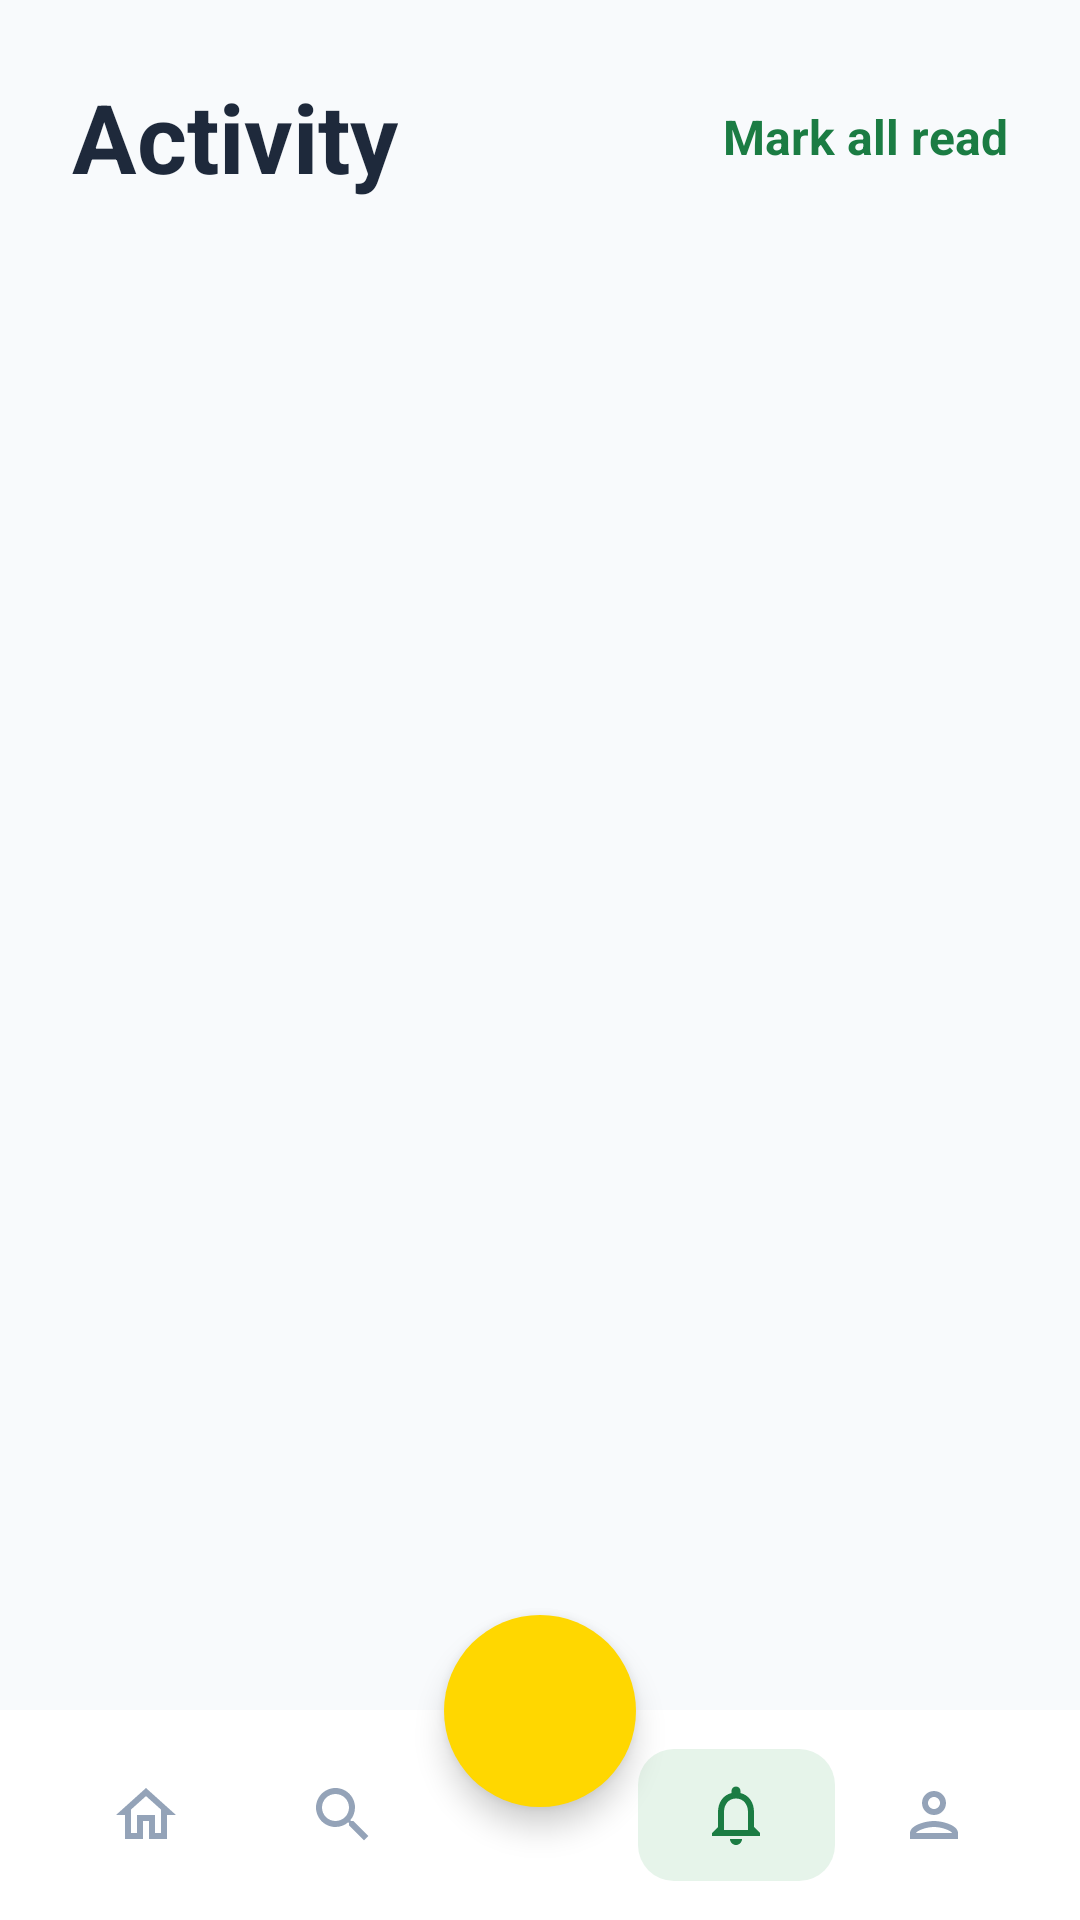

Icon bounding boxes for this 1080 × 1920 phone screenshot, format (x1, y1, x2, y2):
Home: (116, 1788, 176, 1839)
Notifications: (712, 1786, 760, 1845)
Profile: (910, 1791, 958, 1839)
Search: (316, 1788, 368, 1840)
